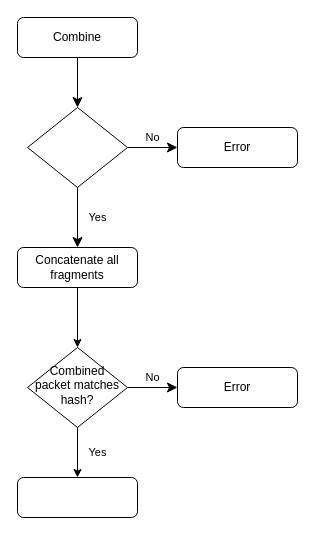
This 315x535 diagram has some shape labels left out. Here are the shapes that lost their labels. From the top down, the box of each, then its label:
(26, 106, 128, 188): All fragmentens received?
(16, 476, 138, 518): Return combined packet
